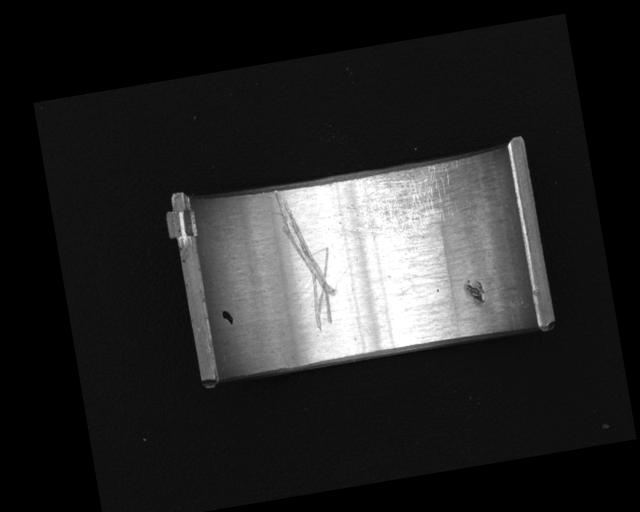blot: (220, 307, 235, 327)
bruise: (463, 276, 488, 308)
nick: (271, 182, 342, 334)
scratch: (332, 160, 467, 246)
